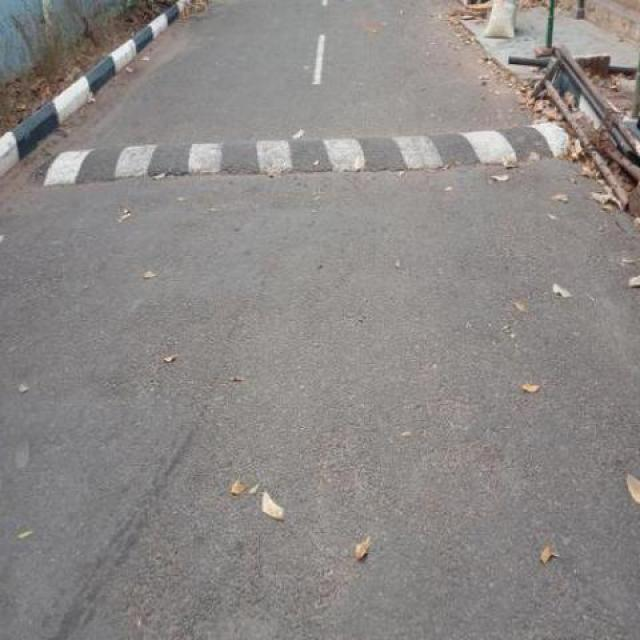Speed Bump: (38, 116, 569, 188)
